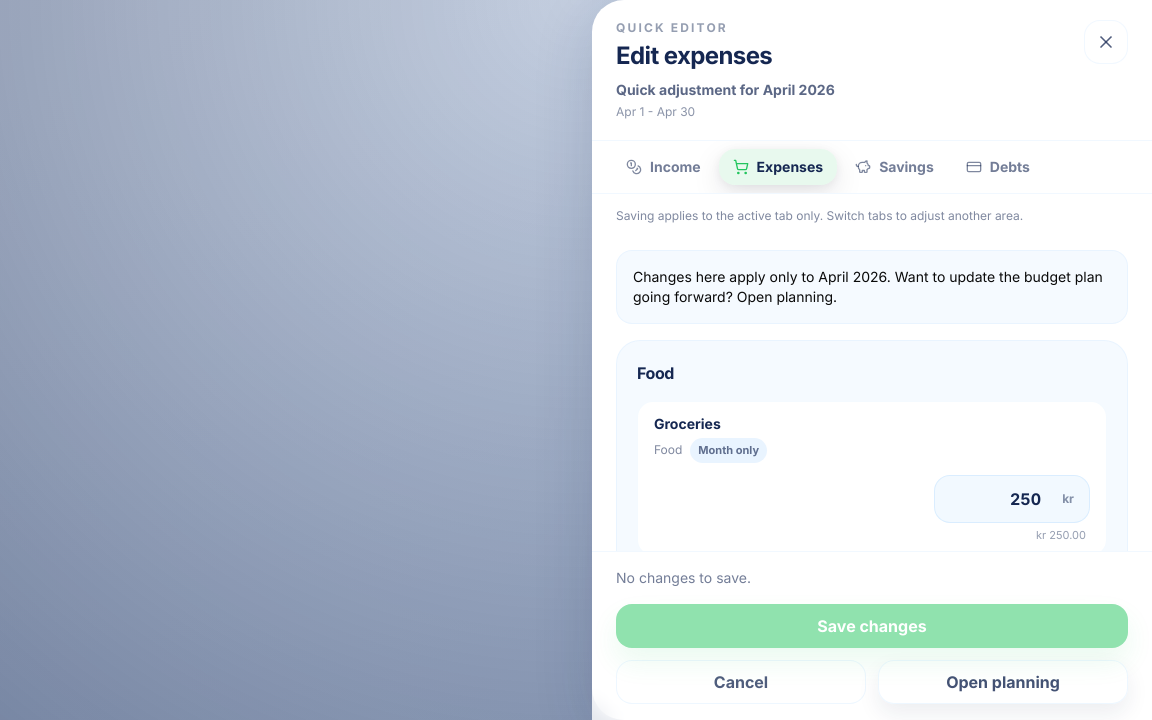
Test case: EditPeriodDrawer quick-edit tab shell › preserves an expense draft after switching tabs and back
Replace the text in the field with "999" at (1012, 498), box [934,474,1090,522]
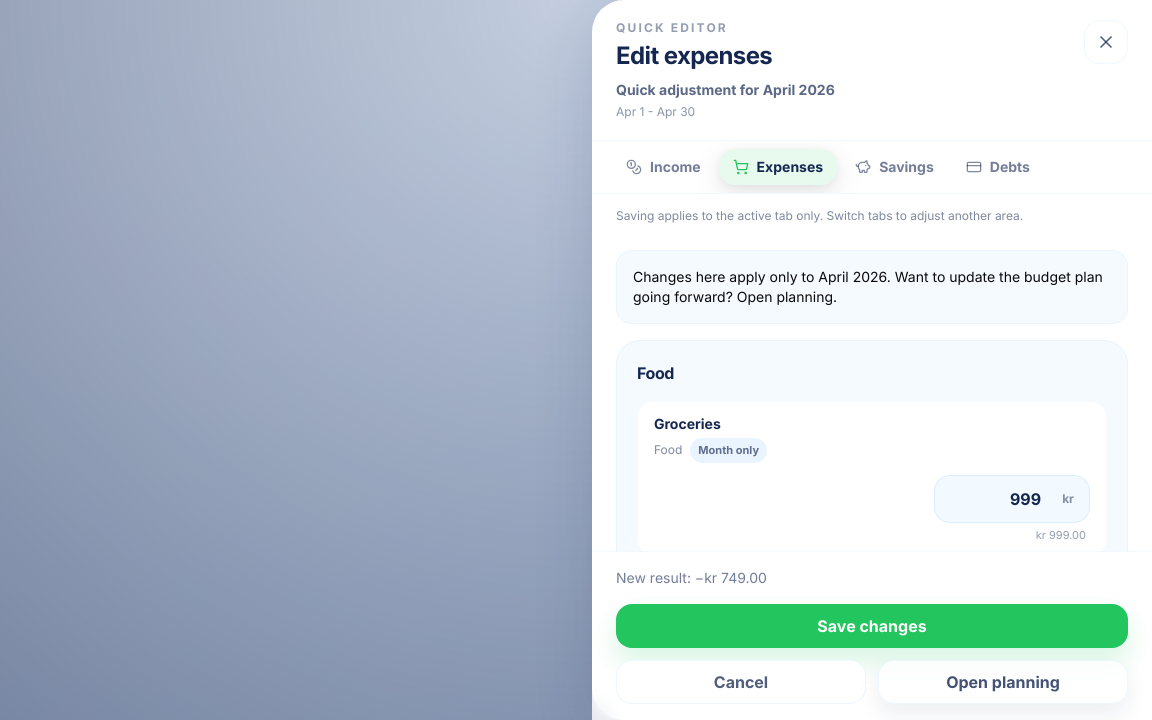
Check: the button "Save changes" is enabled, box [616,604,1128,648]
Bounce through another tab and back.
Click the tab "Income" at (663, 167), box [612,149,715,185]
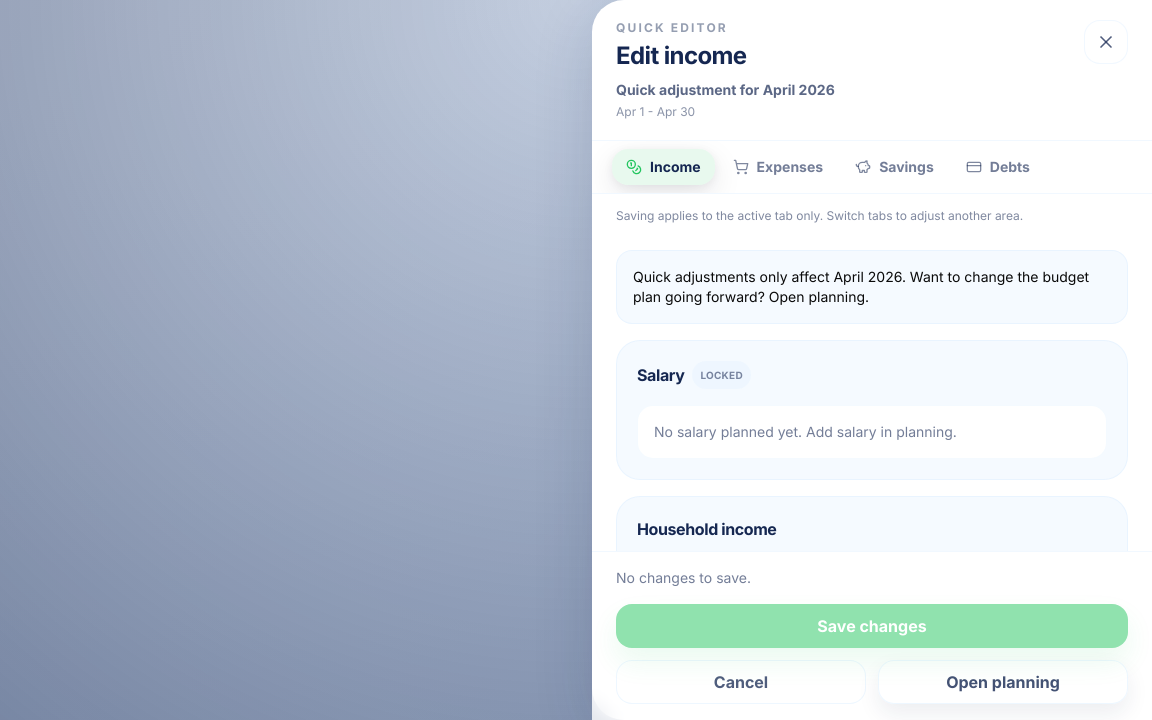
Click the tab "Expenses" at (778, 167), box [719,149,837,185]
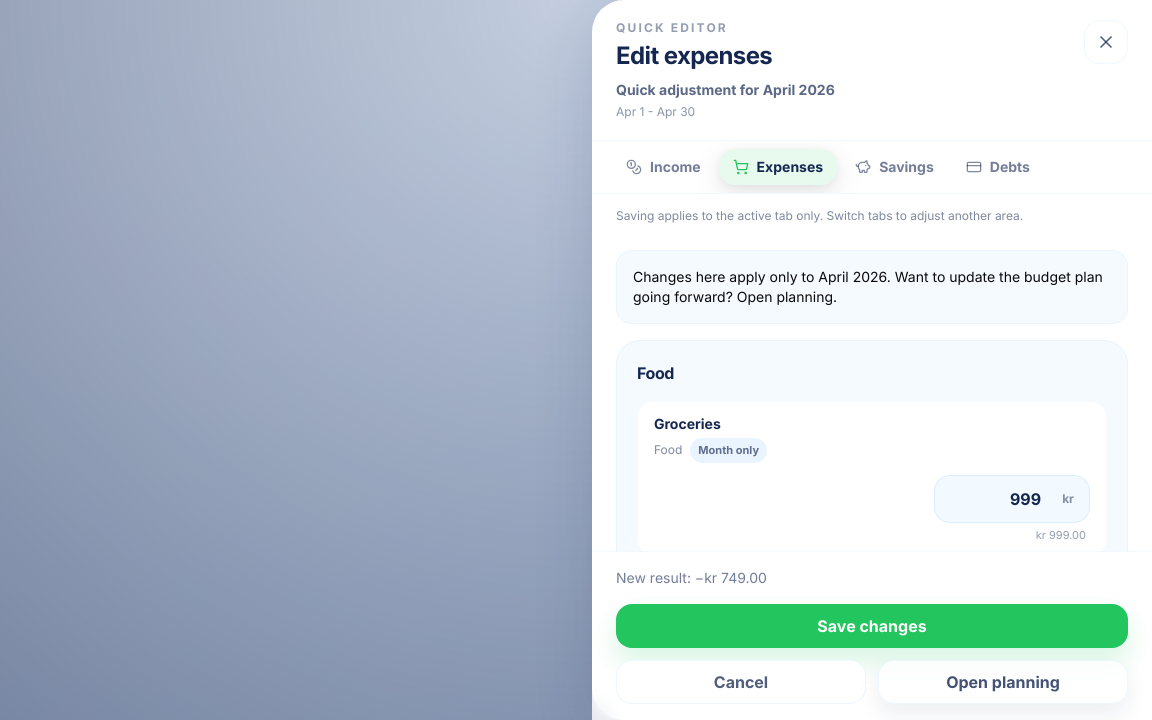
Check: the button "Save changes" is enabled, box [616,604,1128,648]
